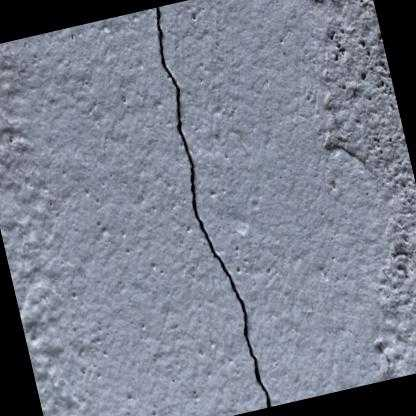crack: (155, 6, 271, 408)
